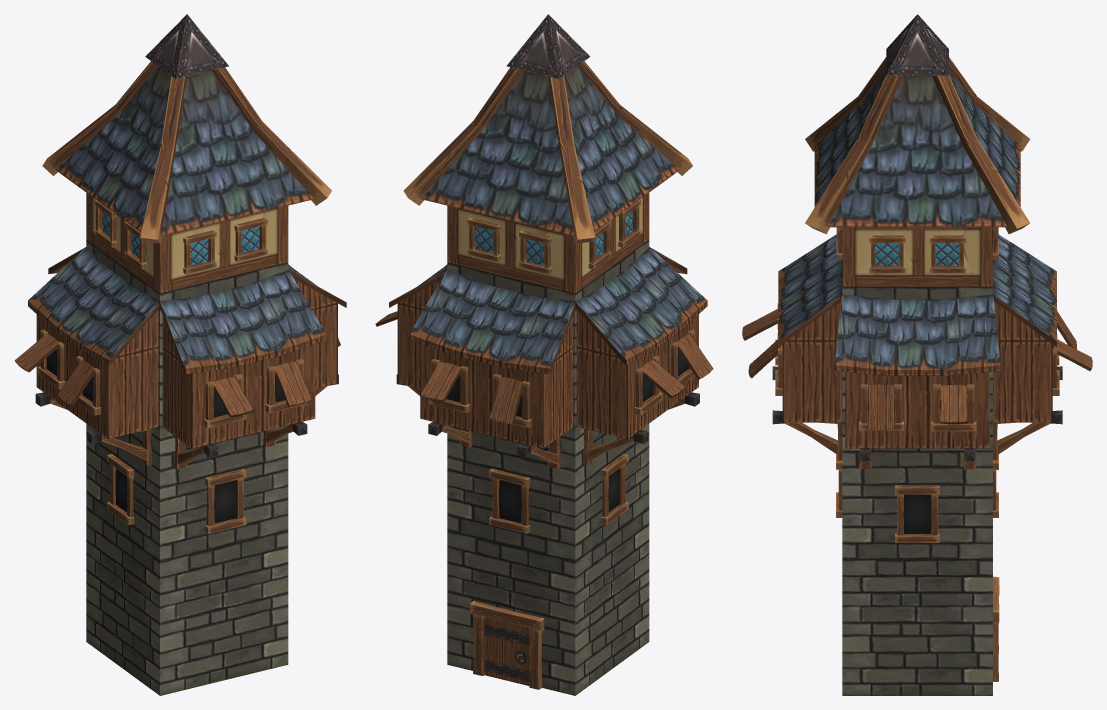
The model's file is HOS0110031.fbx.
3 views of the same model, side by side, from view 1: azimuth 30°, elevation 25°; view 2: azimuth 150°, elevation 25°; view 3: azimuth 270°, elevation 25° (orthographic).
Parts seen in each view (by area): view 1: smHOS0110031; view 2: smHOS0110031; view 3: smHOS0110031.
Boxes of the visible parts, box(x1,y1,x2,y2) form: smHOS0110031: box(14, 14, 346, 695); smHOS0110031: box(375, 14, 713, 695); smHOS0110031: box(742, 14, 1092, 695).
Size of the model in its own units: 1058 by 2168 by 1059.
Materials: 1 (1 with a texture image).
